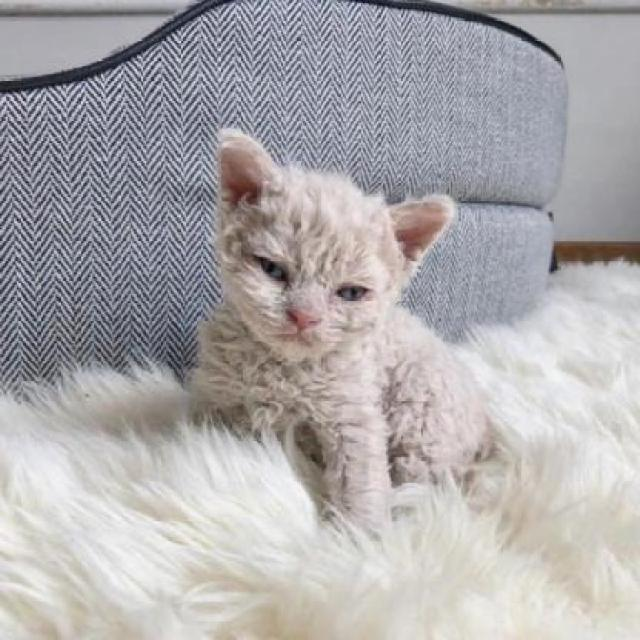cat: (172, 116, 514, 546)
